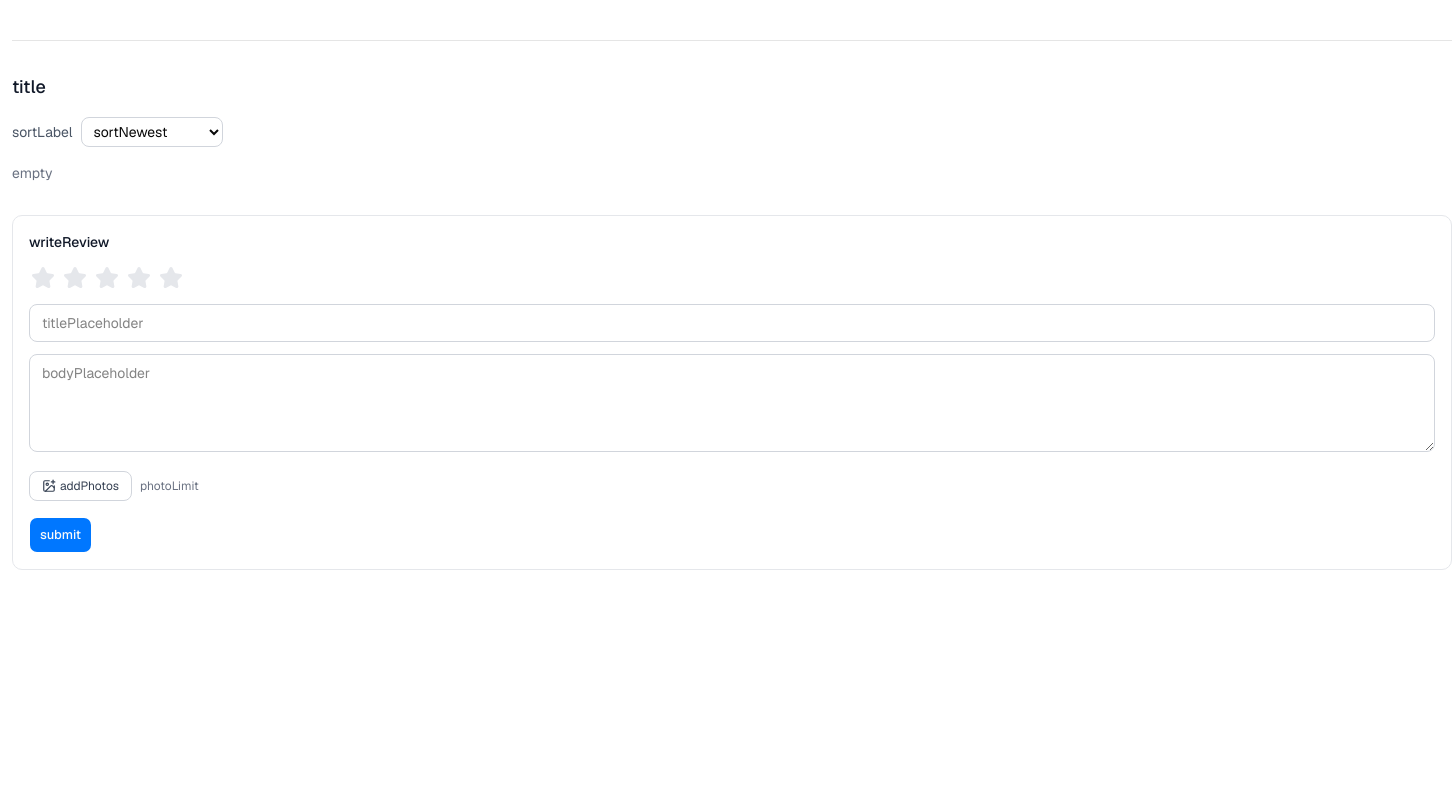
ProductReviews › shows an error when submission fails
The image size is (1452, 810).
Click the button named "3 stars": point(107, 278) top-left (93, 264), bottom-right (121, 292)
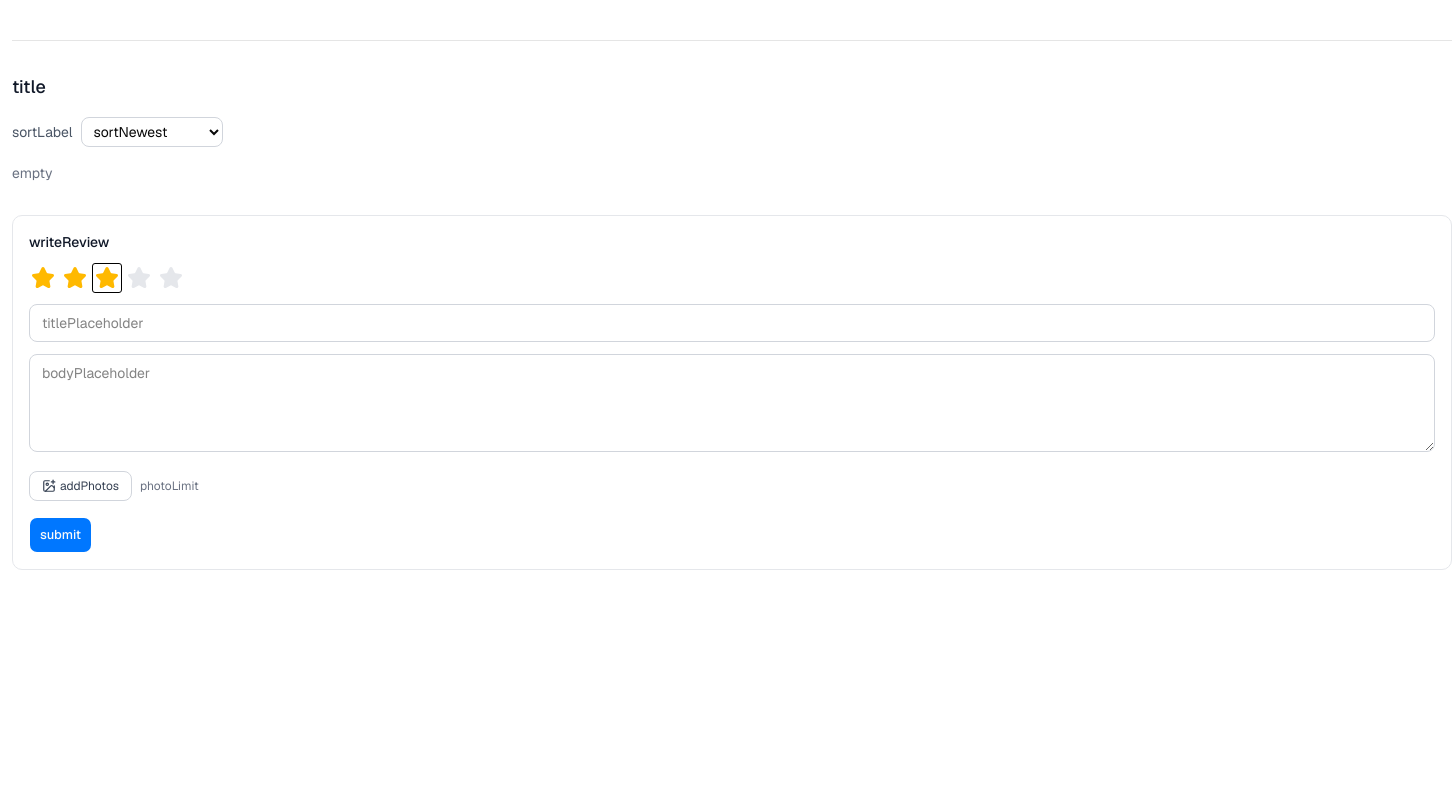
Click the button "submit": point(60, 535) top-left (29, 517), bottom-right (92, 553)
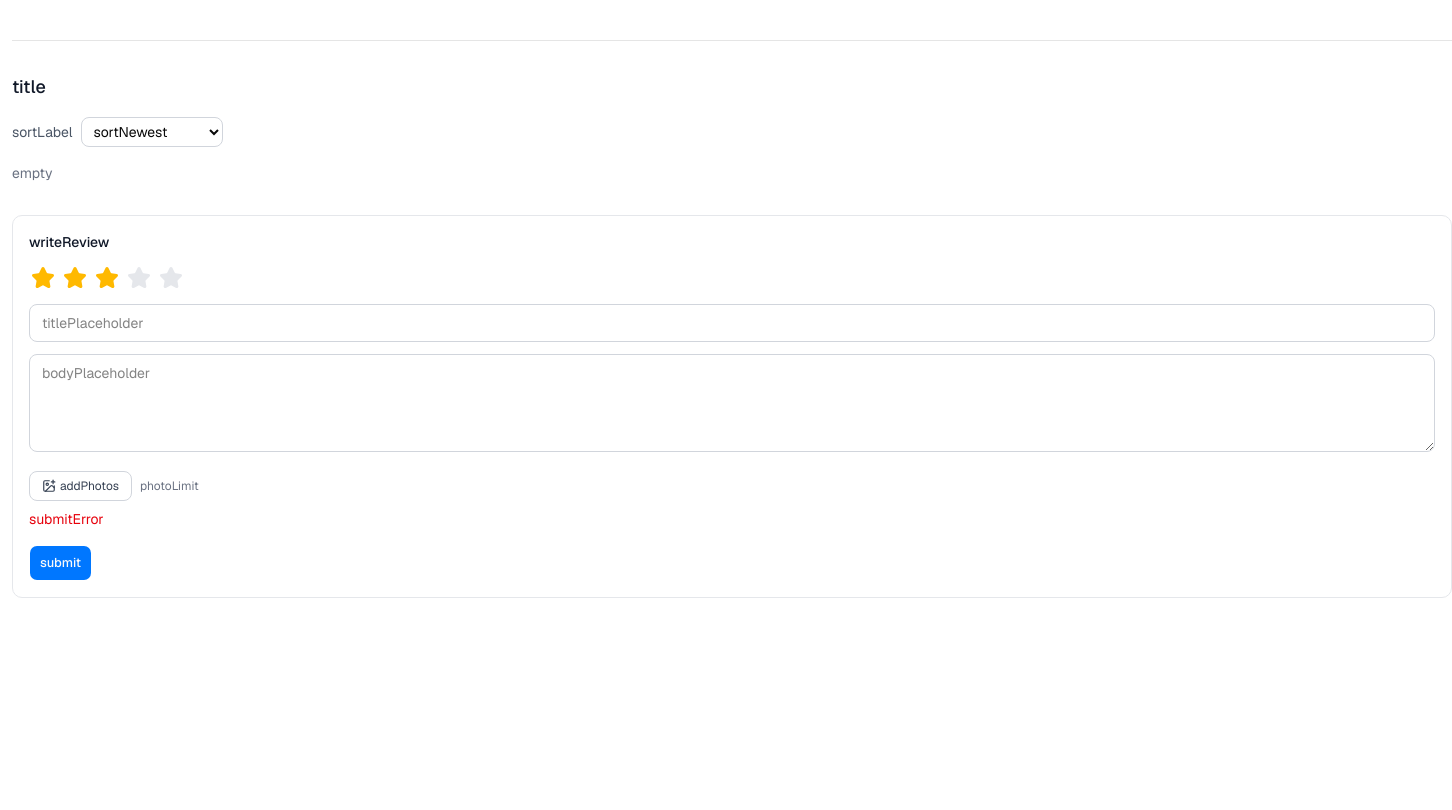
Now the text "submitError" is shown, box top-left (29, 510), bottom-right (104, 528)
